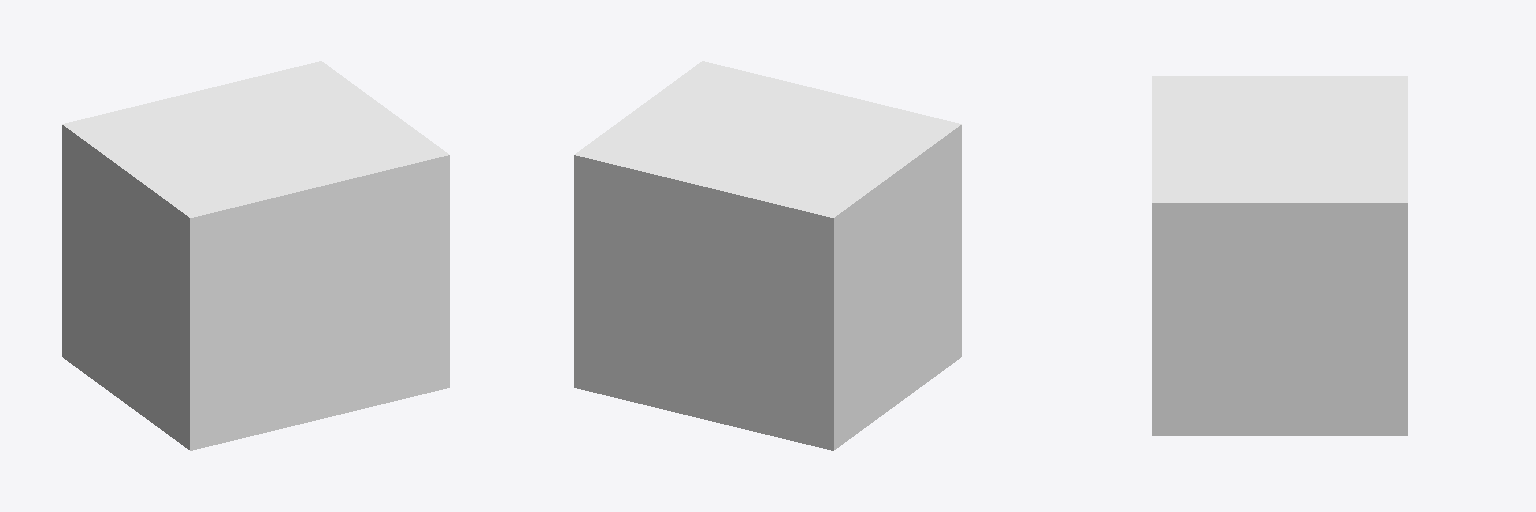
File: television.obj
3 renders of one model, left to right at view 1: azimuth 30°, elevation 25°; view 2: azimuth 150°, elevation 25°; view 3: azimuth 270°, elevation 25°, orthographic.
Visible parts, largest first — view 1: television; view 2: television; view 3: television.
Part boxes in pixels (left/top/right/bottom): television: left=62, top=61, right=449, bottom=450; television: left=574, top=61, right=961, bottom=450; television: left=1152, top=76, right=1407, bottom=435.
Bounding box in the file's own units: 14 × 12 × 12.